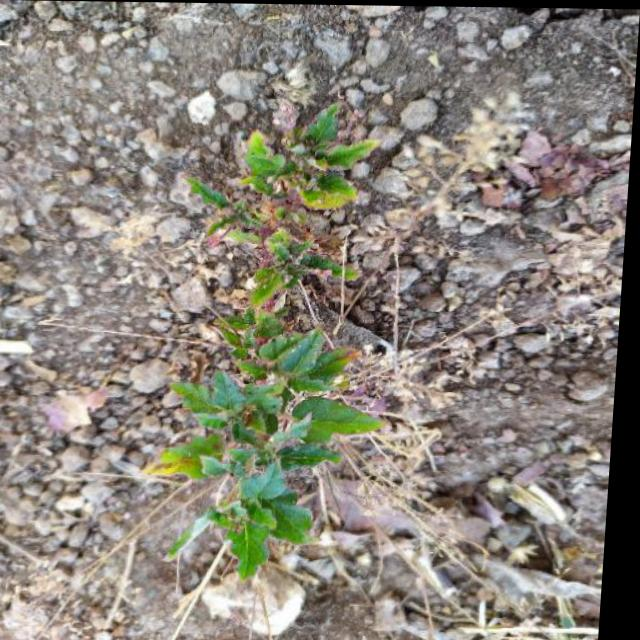weed: (75, 80, 593, 578)
